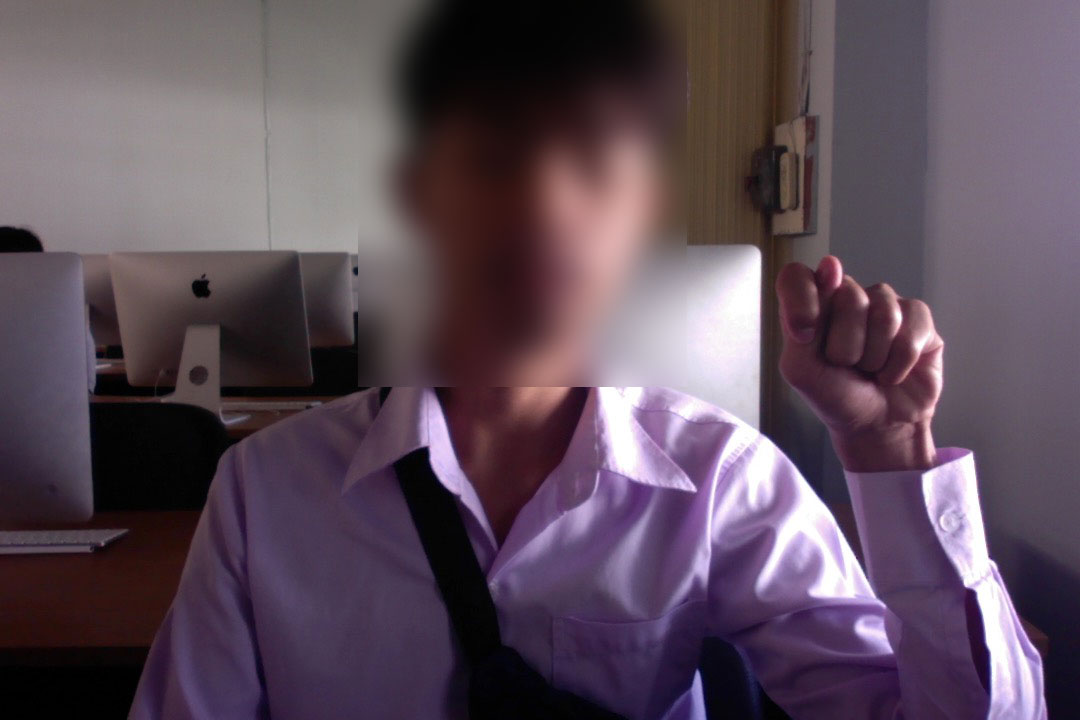tor: (770, 252, 951, 452)
